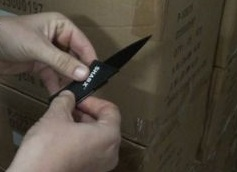knife: (58, 30, 157, 112)
